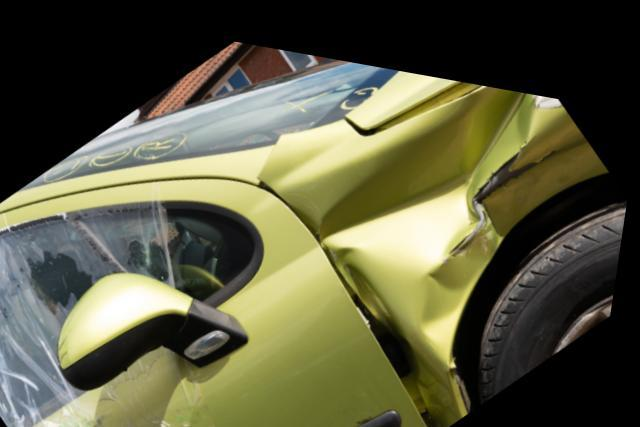dent: (321, 69, 611, 349)
dislocated part: (262, 66, 611, 417)
